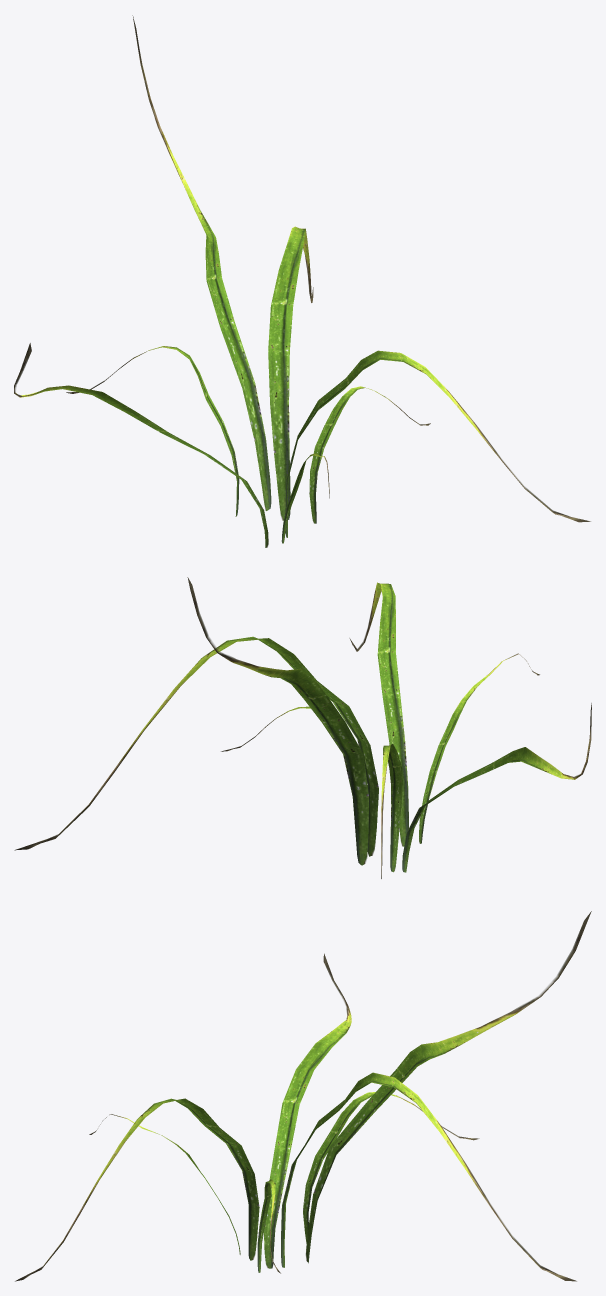
File: grass1.glb
3 views of the same model, one above another, from view 1: azimuth 30°, elevation 25°; view 2: azimuth 150°, elevation 25°; view 3: azimuth 270°, elevation 25° (orthographic). The views are drawn at different scales.
Parts seen in each view (by area): view 1: grass4; view 2: grass4; view 3: grass4.
Part boxes in pixels (left/top/right/bottom): grass4: left=14, top=15, right=590, bottom=547; grass4: left=14, top=577, right=591, bottom=878; grass4: left=15, top=911, right=591, bottom=1281.
Bounding box in the file's own units: 0.0523 × 0.047 × 0.0656.
Materials: 1 (1 with a texture image).
